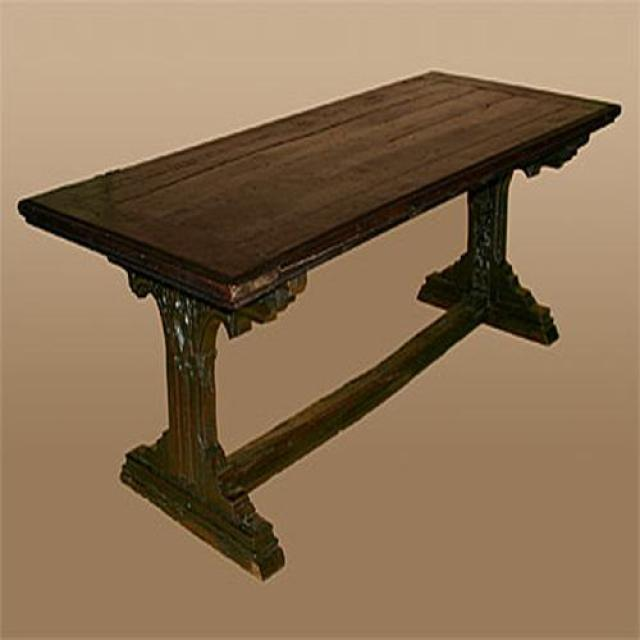table: (17, 70, 623, 584)
